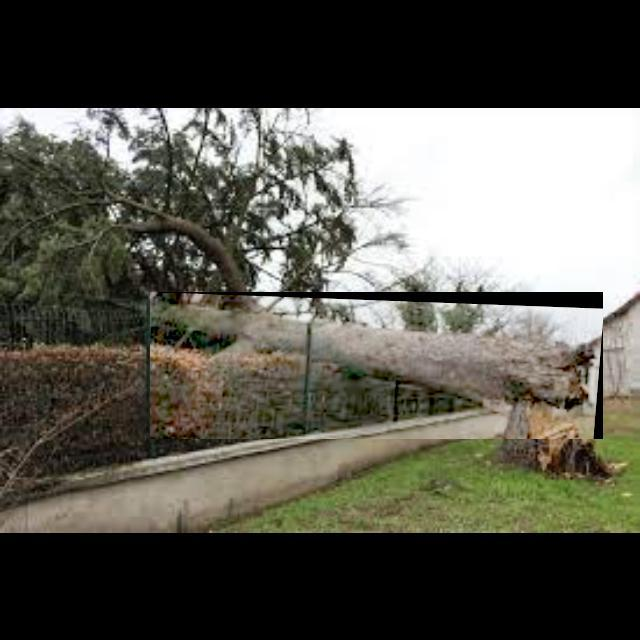fallen_tree: (150, 292, 604, 440)
